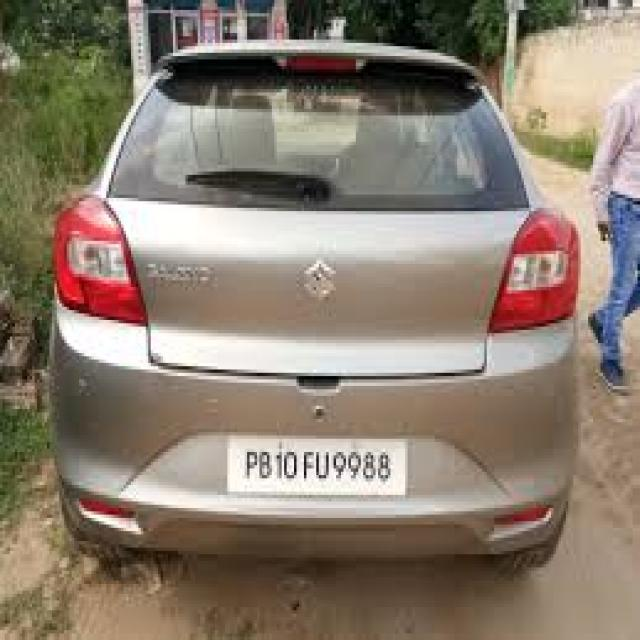Number-Plate: (232, 434, 402, 493)
